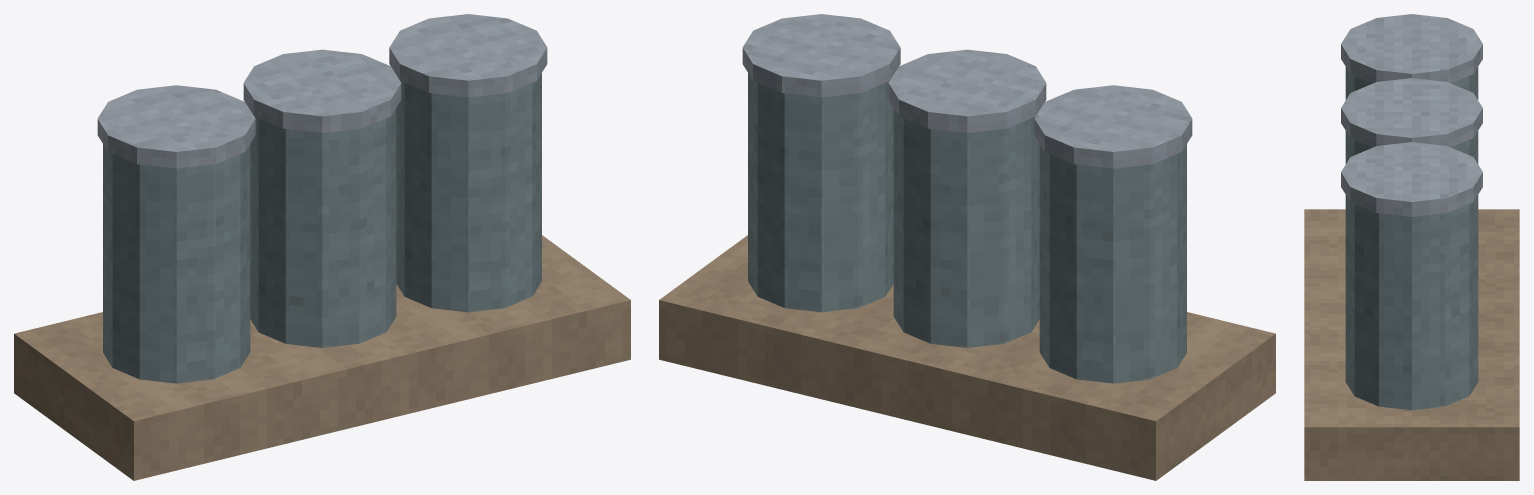
Rendered from level_blockout_lighthouse_oil_barrel_rack.glb.
The picture shows the model from 3 angles, left to right: view 1: azimuth 30°, elevation 25°; view 2: azimuth 150°, elevation 25°; view 3: azimuth 270°, elevation 25°; orthographic projection. The views are drawn at different scales.
Visible parts, largest first — view 1: level_blockout_lighthouse_oil_barrel_rack; view 2: level_blockout_lighthouse_oil_barrel_rack; view 3: level_blockout_lighthouse_oil_barrel_rack.
Boxes of the visible parts, x1,y1,x2,y2 form: level_blockout_lighthouse_oil_barrel_rack: (14, 14, 630, 480); level_blockout_lighthouse_oil_barrel_rack: (659, 14, 1275, 480); level_blockout_lighthouse_oil_barrel_rack: (1304, 14, 1519, 480).
Size of the model in its own units: 2.18 by 1.23 by 0.91.
3 materials, 3 textured.
